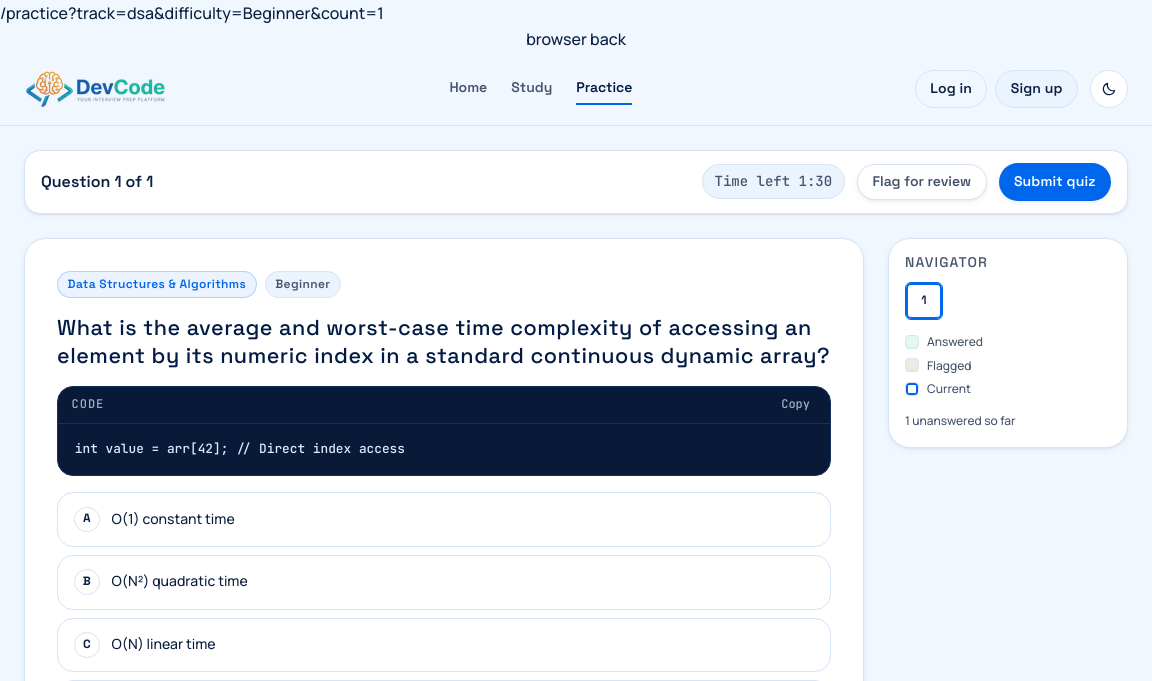
Test: AI coach → Study hub → back to Results › does not regenerate the coaching answer when returning
Expected: the text "Question 1 of 1" is shown, [41,168,153,195]
Step 1. Click the button "B O(N²) quadratic time" → coordinates (180, 581), box [57,555,831,610]
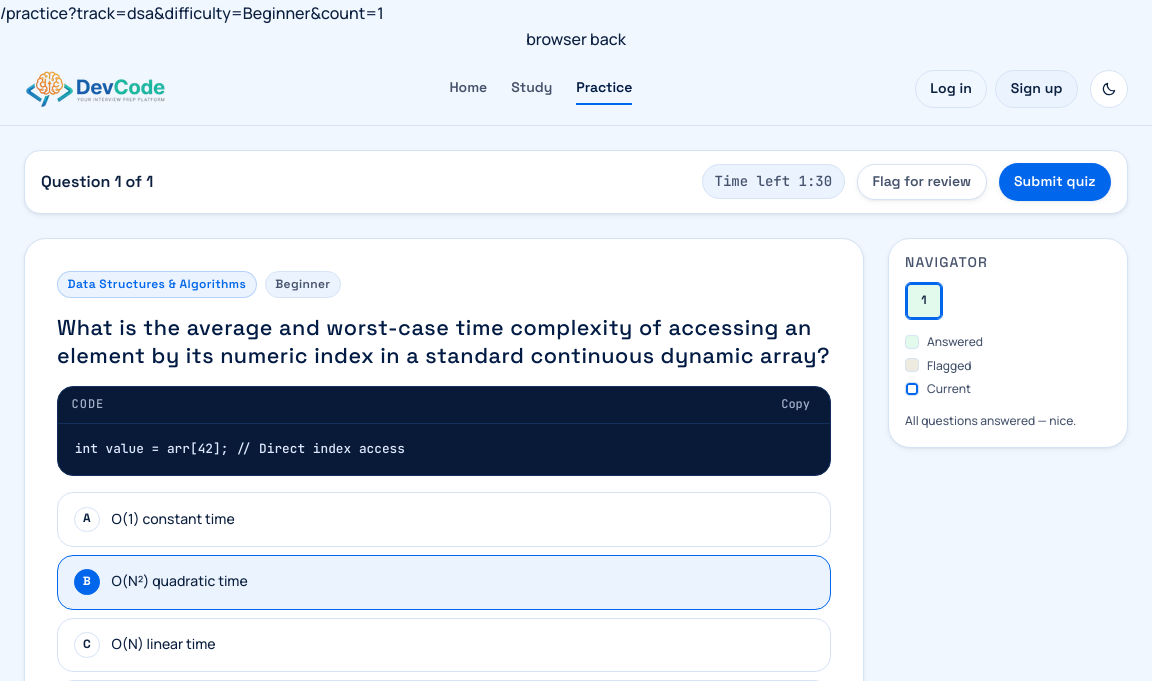
Step 2. Click the button "Submit quiz" → coordinates (1055, 182), box [998,163,1111,201]
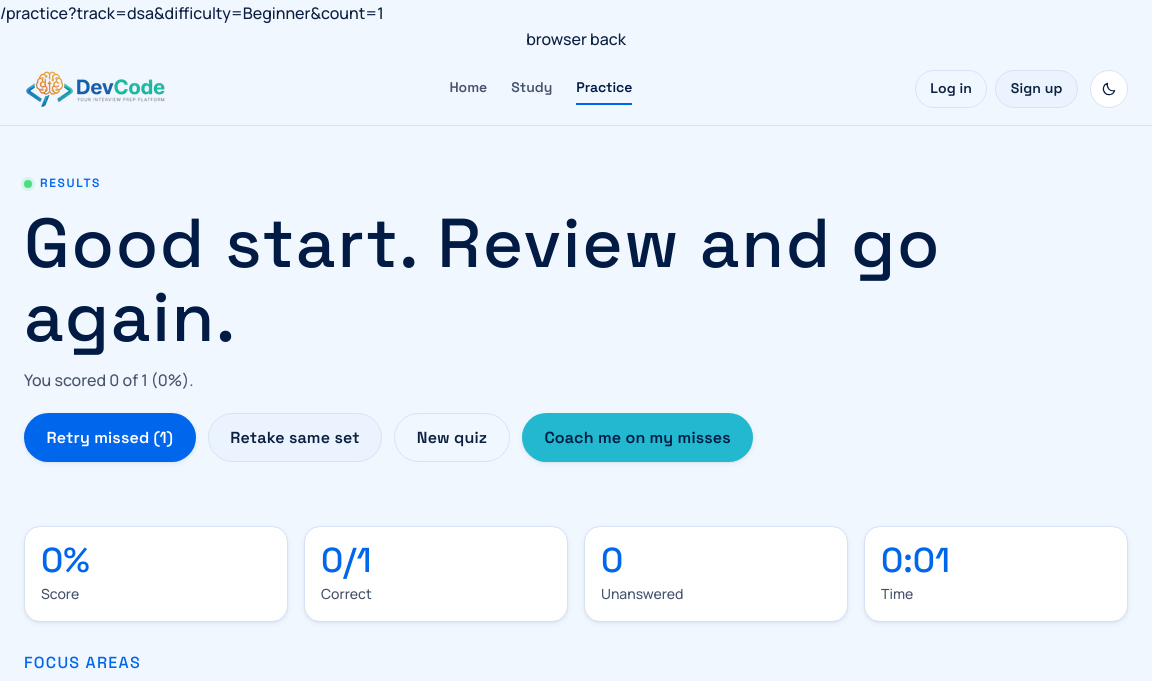
Expected: the button "Coach me on my misses" is shown
Step 3. Click the button "Coach me on my misses" → coordinates (638, 438), box [522,413,754,462]
(page scrolled)
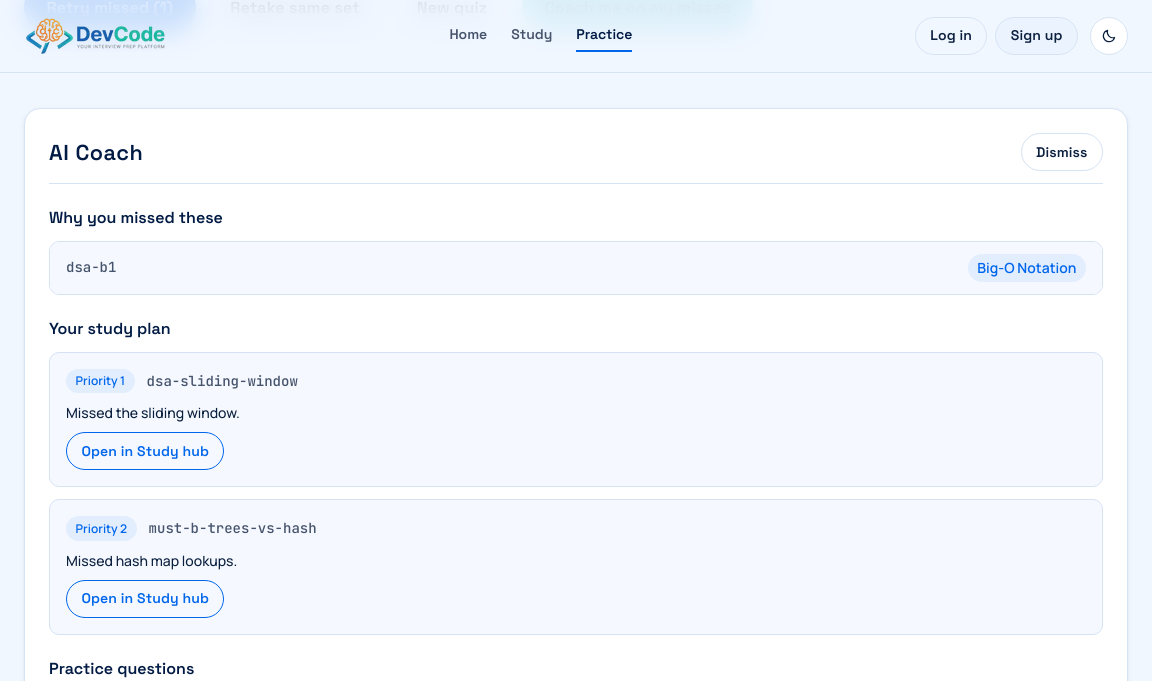
Expected: the heading "Why you missed these" is shown, [49,207,223,228]
Step 4. Click the link "Open in Study hub" below "dsa-sliding-window" → coordinates (145, 451), box [66,432,224,470]
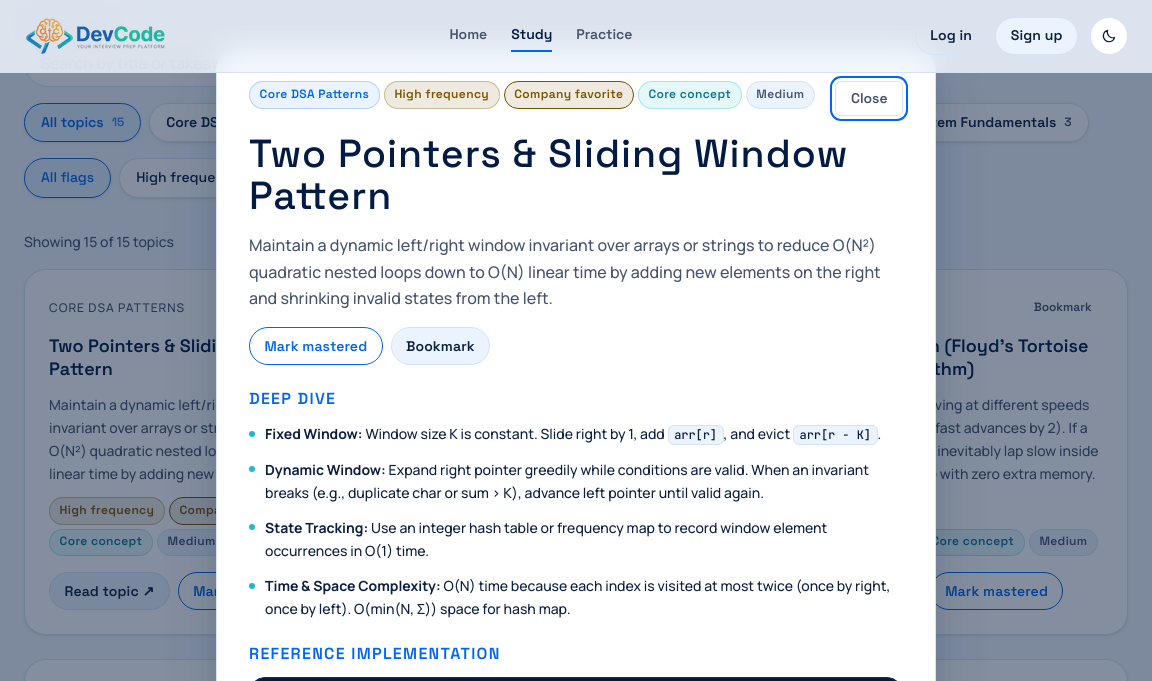
Step 5. Click the button with aria-label "Close topic" → coordinates (869, 98), box [836,81,903,116]
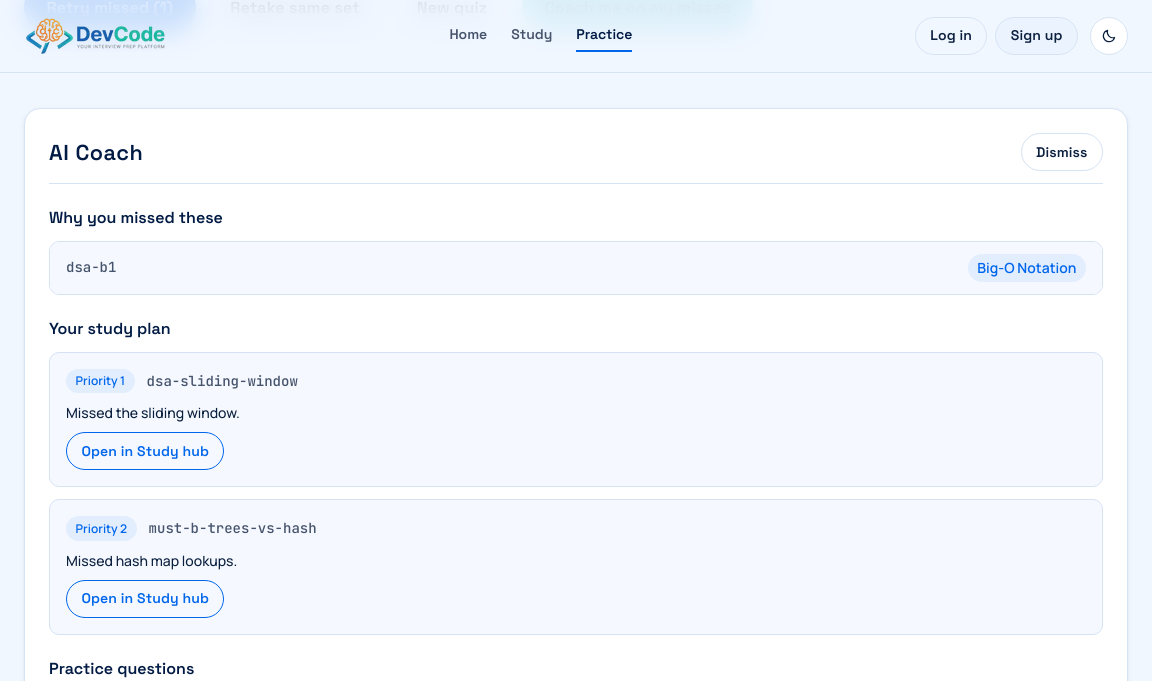
Expected: the heading "Why you missed these" is shown, [49,207,223,228]
